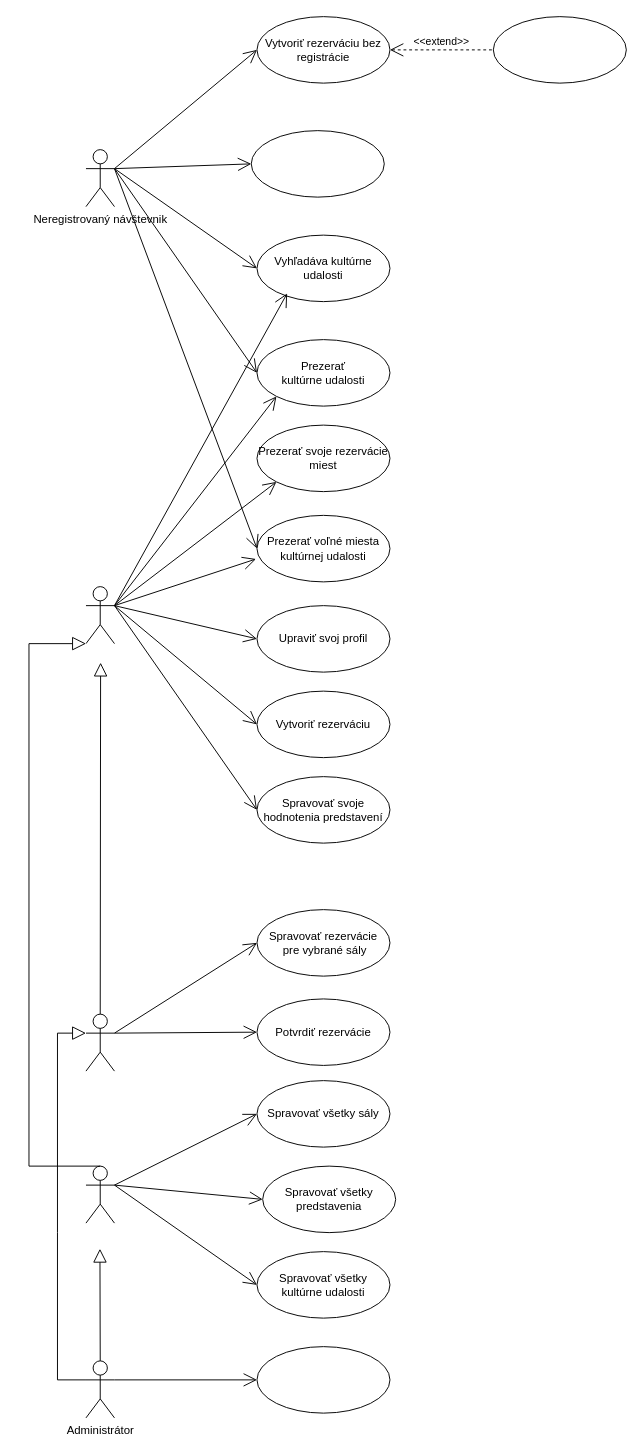
Some shapes in this 643 by 1454 pixel diagram are drawn without their labels. The shapes that lost their labels are listed below. From the top down, each one's box as (x1, y1, x2, y2) in pixels, then its label:
(492, 16, 626, 83): Dokončiť registráciu účtu
(250, 130, 384, 197): Registrovať účet
(85, 586, 114, 644): Divák
(85, 1013, 114, 1071): Pokladní
(85, 1165, 114, 1223): Redaktor
(256, 1346, 390, 1413): Spravovať všetkých užívateľov
